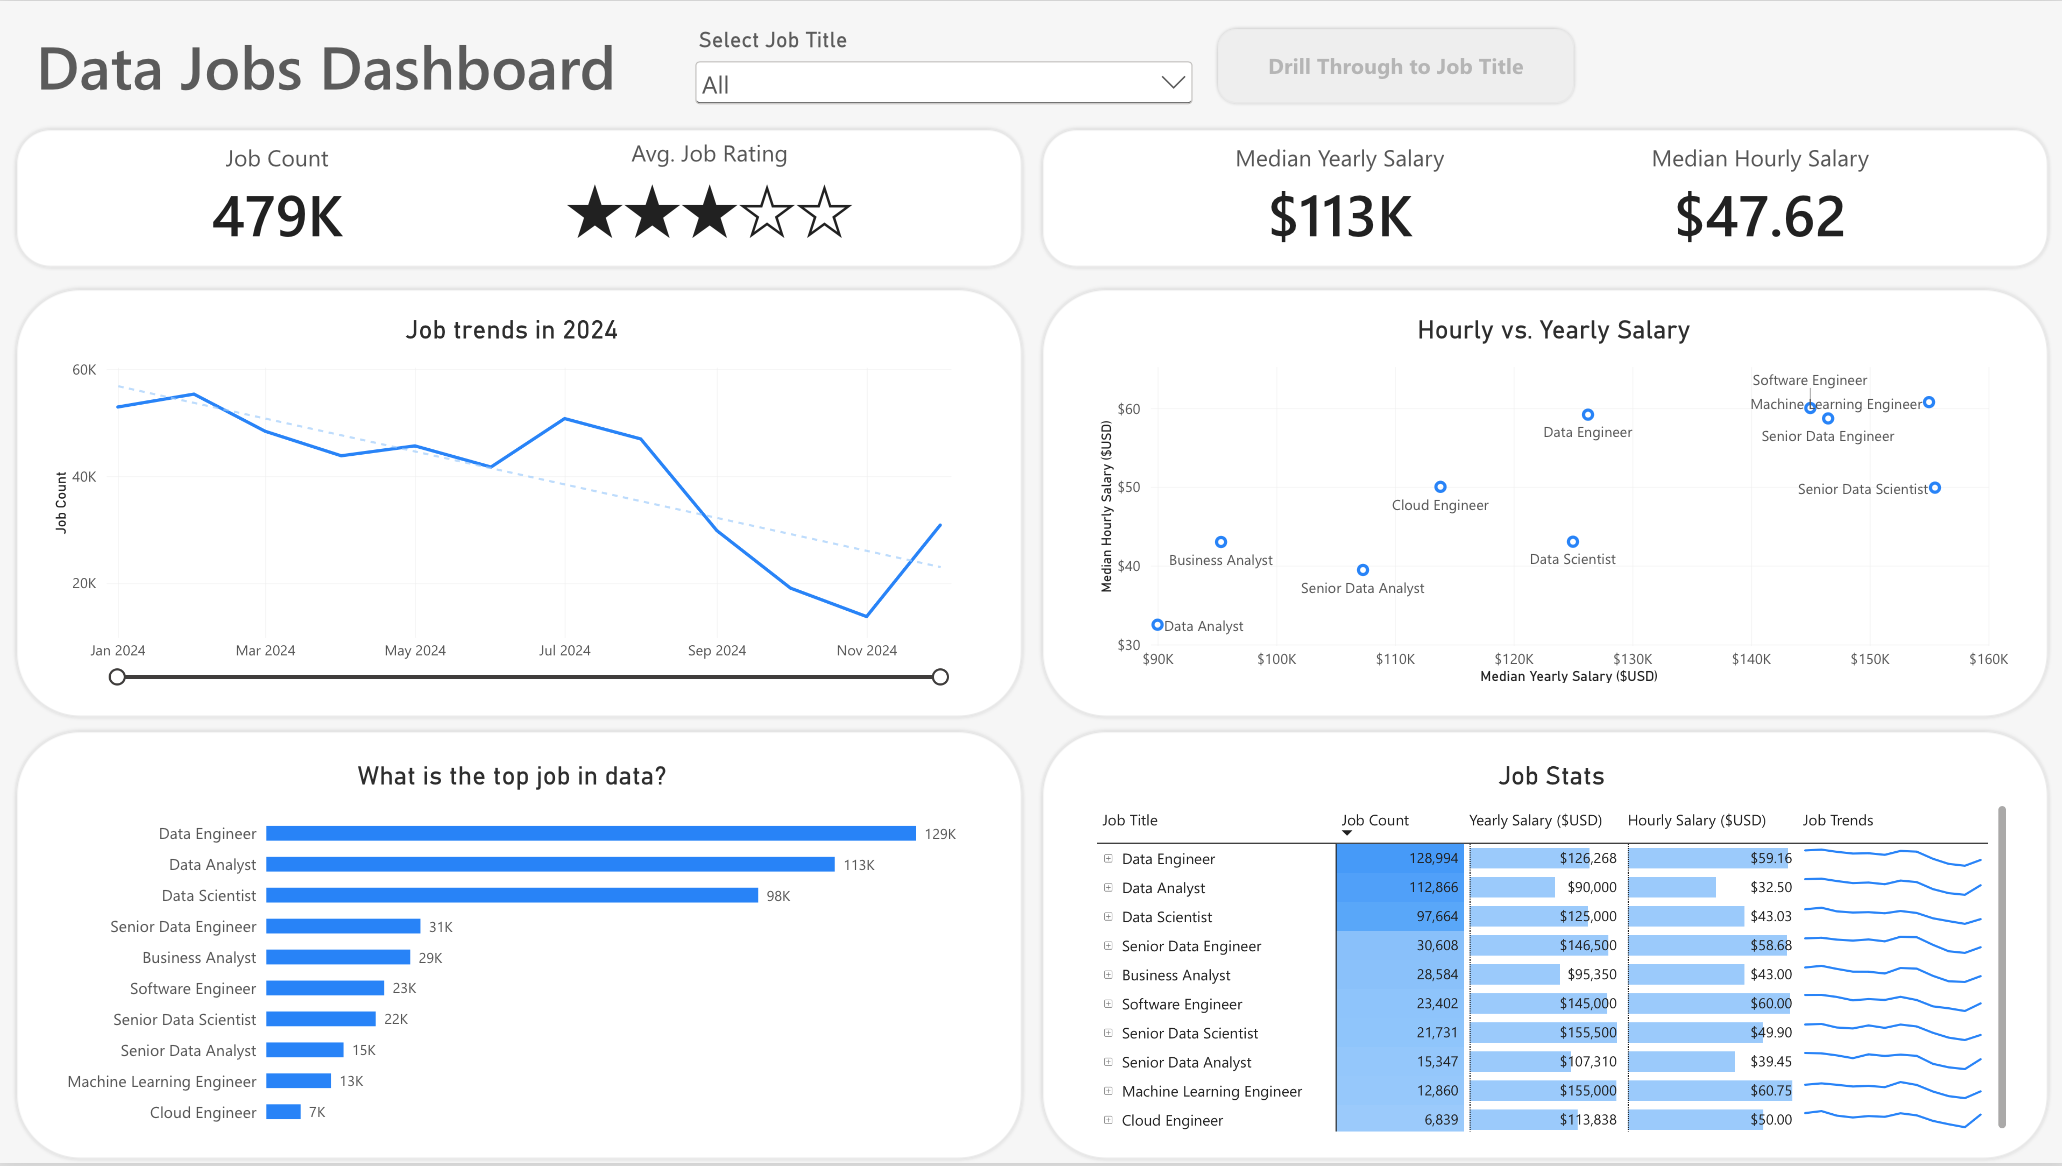

The dashboard page shown, as its layout file describes it:
{"tool":"powerbi","page":{"name":"Data Jobs Dashboard","canvas":[1920,1080],"ordinal":0},"visuals":[{"type":"group","id":"g1","title":"Background","box":[12,114.7,1896,965.2],"z":0},{"type":"shape","box":[965.3,114.7,942.7,136],"z":0,"group":"g1"},{"type":"textbox","box":[33.3,22.7,558.7,76],"z":1000},{"type":"shape","box":[12.2,674.5,942.7,405.3],"z":1000,"group":"g1"},{"type":"slicer","fields":{"Values":["job_postings_flat.job_title_short"]},"box":[642,26,471.8,72.3],"z":2000},{"type":"shape","box":[965.3,674.5,942.7,405.3],"z":2000,"group":"g1"},{"type":"cardVisual","fields":{"Data":["CountNonNull(job_postings_flat.job_title_short)"]},"box":[71.3,84.4,374.7,197.3],"z":3000},{"type":"shape","box":[965.3,264.3,942.7,405.3],"z":3000,"group":"g1"},{"type":"cardVisual","fields":{"Data":["job_postings_flat.Salary Star Rating"]},"box":[466,84.4,386.7,197.3],"z":4000},{"type":"shape","box":[12,114.7,942.7,136],"z":4000,"group":"g1"},{"type":"cardVisual","fields":{"Data":["Median(job_postings_flat.salary_year_avg)"]},"box":[1023.2,84.4,442.7,197.3],"z":5000},{"type":"shape","box":[12.2,264.3,942.7,405.3],"z":5000,"group":"g1"},{"type":"cardVisual","fields":{"Data":["Median(job_postings_flat.salary_hour_avg)"]},"box":[1421.9,84.4,428,197.3],"z":6000},{"type":"lineChart","title":"Job trends in 2024","fields":{"Category":["job_postings_flat.job_posted_date.Variation.Date Hierarchy.Year","job_postings_flat.job_posted_date.Variation.Date Hierarchy.Quarter","job_postings_flat.job_posted_date.Variation.Date Hierarchy.Month","job_postings_flat.job_posted_date.Variation.Date Hierarchy.Day"],"Y":["CountNonNull(job_postings_flat.job_title_short)"]},"box":[33.3,281.3,885.3,369.3],"z":7000},{"type":"barChart","title":"What is the top job in data?","fields":{"Category":["job_postings_flat.job_title_short"],"Y":["CountNonNull(job_postings_flat.job_title_short)"]},"box":[33.3,694.7,885.3,372],"z":8000},{"type":"scatterChart","title":"Hourly vs. Yearly Salary","fields":{"Series":["job_postings_flat.job_title_short"],"X":["Median(job_postings_flat.salary_year_avg)"],"Y":["Median(job_postings_flat.salary_hour_avg)"]},"box":[1005.3,281.3,877.3,369.3],"z":9000},{"type":"pivotTable","title":"Job Stats","fields":{"Rows":["job_postings_flat.job_title_short","job_postings_flat.job_posted_date.Variation.Date Hierarchy.Quarter"],"Values":["CountNonNull(job_postings_flat.job_title_short)","Median(job_postings_flat.salary_year_avg)","Median(job_postings_flat.salary_hour_avg)","SparklineData(CountNonNull(job_postings_flat.job_title_short)_[job_postings_flat.job_posted_date.Variation.Date Hierarch"]},"box":[1004,694.7,877.3,372],"z":10000},{"type":"actionButton","box":[1128,22,338,76],"z":11000}]}

Visuals, with their boxes in screenshot pixels (x1, y1, x2, y2), scaled from the page's 1920x1080 canvas onto the 2062x1166 screenshot:
"Background" group: [x1=13, y1=124, x2=2049, y2=1165]
shape: [x1=1037, y1=124, x2=2049, y2=271]
textbox: [x1=36, y1=25, x2=636, y2=107]
shape: [x1=13, y1=728, x2=1026, y2=1165]
slicer - job_postings_flat.job_title_short: [x1=689, y1=28, x2=1196, y2=106]
shape: [x1=1037, y1=728, x2=2049, y2=1165]
cardVisual - CountNonNull(job_postings_flat.job_title_short): [x1=77, y1=91, x2=479, y2=304]
shape: [x1=1037, y1=285, x2=2049, y2=723]
cardVisual - job_postings_flat.Salary Star Rating: [x1=500, y1=91, x2=916, y2=304]
shape: [x1=13, y1=124, x2=1025, y2=271]
cardVisual - Median(job_postings_flat.salary_year_avg): [x1=1099, y1=91, x2=1574, y2=304]
shape: [x1=13, y1=285, x2=1026, y2=723]
cardVisual - Median(job_postings_flat.salary_hour_avg): [x1=1527, y1=91, x2=1987, y2=304]
"Job trends in 2024" lineChart: [x1=36, y1=304, x2=987, y2=702]
"What is the top job in data?" barChart: [x1=36, y1=750, x2=987, y2=1152]
"Hourly vs. Yearly Salary" scatterChart: [x1=1080, y1=304, x2=2022, y2=702]
"Job Stats" pivotTable: [x1=1078, y1=750, x2=2020, y2=1152]
actionButton: [x1=1211, y1=24, x2=1574, y2=106]
